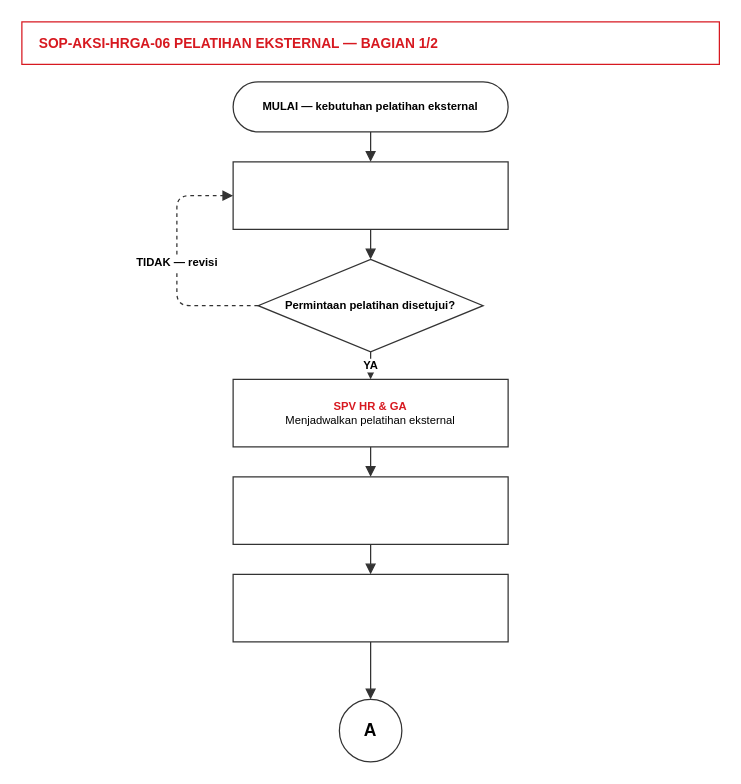
This 741x784 diagram has some shape labels left out. Each missing label, with the box of its shape:
DIVISI TERKAIT Mengajukan Form Permintaan Pelatihan: (232, 161, 508, 229)
KARYAWAN PESERTA Mempresentasikan hasil dan menyerahkan sertifikat/materi: (232, 573, 508, 642)
KARYAWAN PESERTA Mengikuti pelatihan eksternal: (232, 476, 508, 544)
